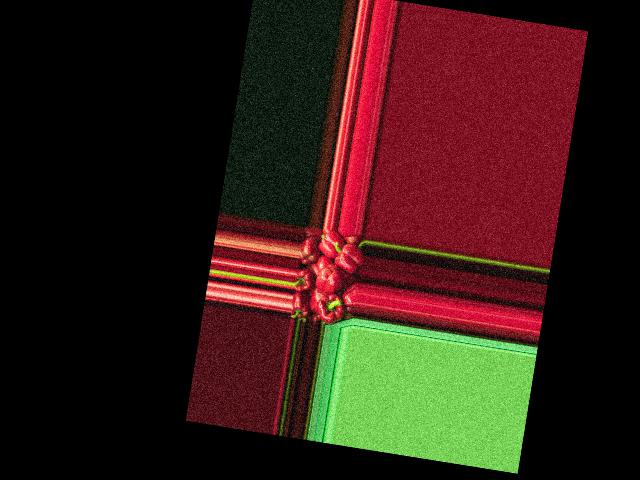bell_pepper: (289, 292, 311, 320)
